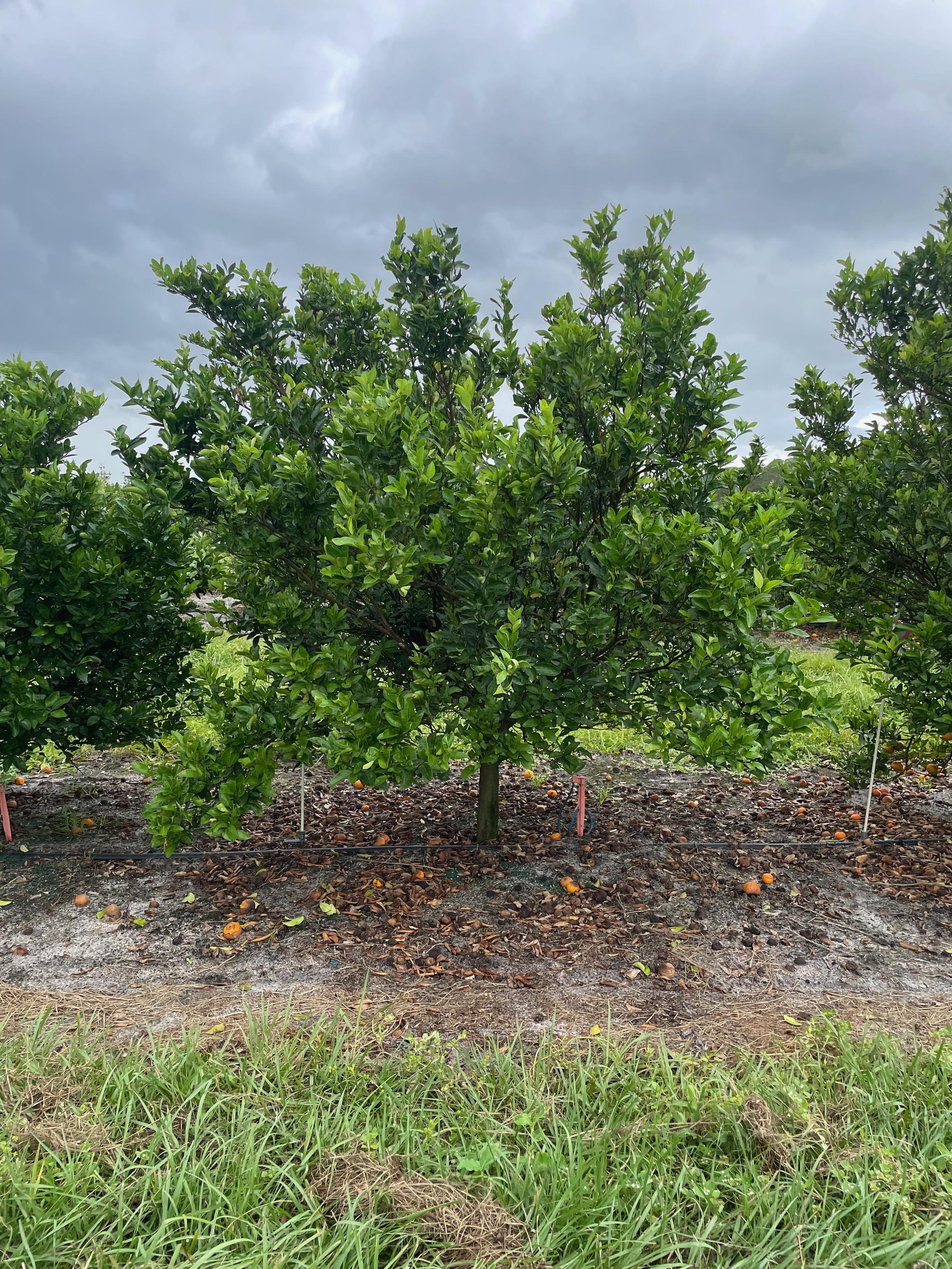fruit_on_ground: (924, 759, 942, 777), (889, 758, 905, 773), (882, 741, 897, 755), (892, 739, 906, 752)
fruit_on_tree: (220, 919, 243, 940), (101, 901, 123, 921), (238, 895, 257, 914), (657, 961, 677, 978), (72, 890, 91, 907), (742, 880, 761, 896), (564, 879, 581, 895), (559, 874, 575, 889), (520, 767, 537, 781), (760, 870, 775, 885), (332, 831, 348, 843), (737, 854, 751, 867), (549, 829, 563, 842), (352, 777, 366, 790), (371, 836, 386, 848), (545, 787, 559, 799), (13, 774, 26, 786), (877, 785, 891, 796), (833, 830, 847, 841), (850, 811, 863, 822), (6, 799, 19, 810), (40, 763, 52, 774), (359, 802, 371, 812), (796, 806, 808, 815), (797, 778, 808, 787), (604, 774, 614, 783), (872, 788, 882, 797), (742, 776, 751, 784)
